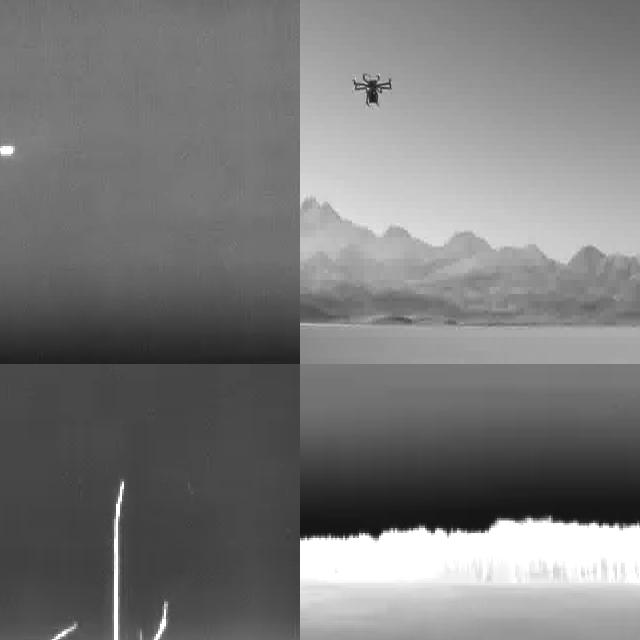0: (176, 478, 202, 505)
1: (0, 140, 24, 170)
drone: (354, 68, 392, 113)
